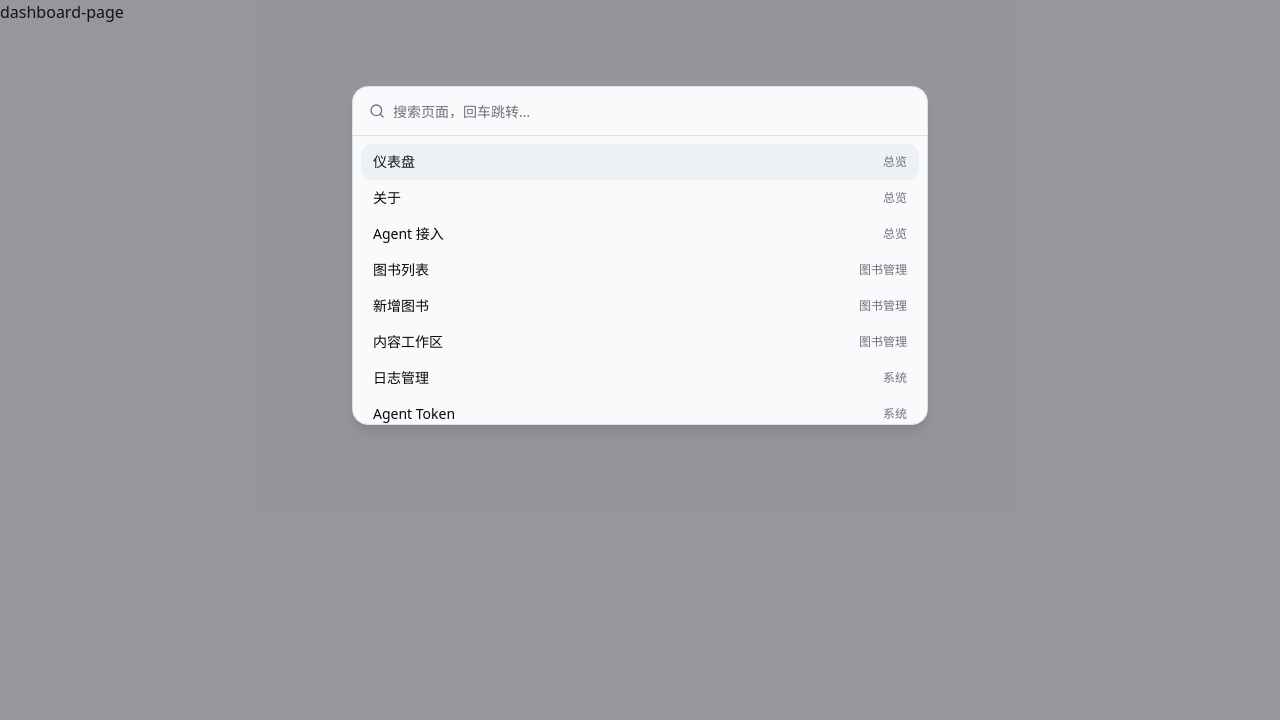
Test: CommandPalette › 过滤后回车跳转目标页面
Type "图书" into the dropdown labelled "搜索页面" at (652, 111), box [393,87,911,135]
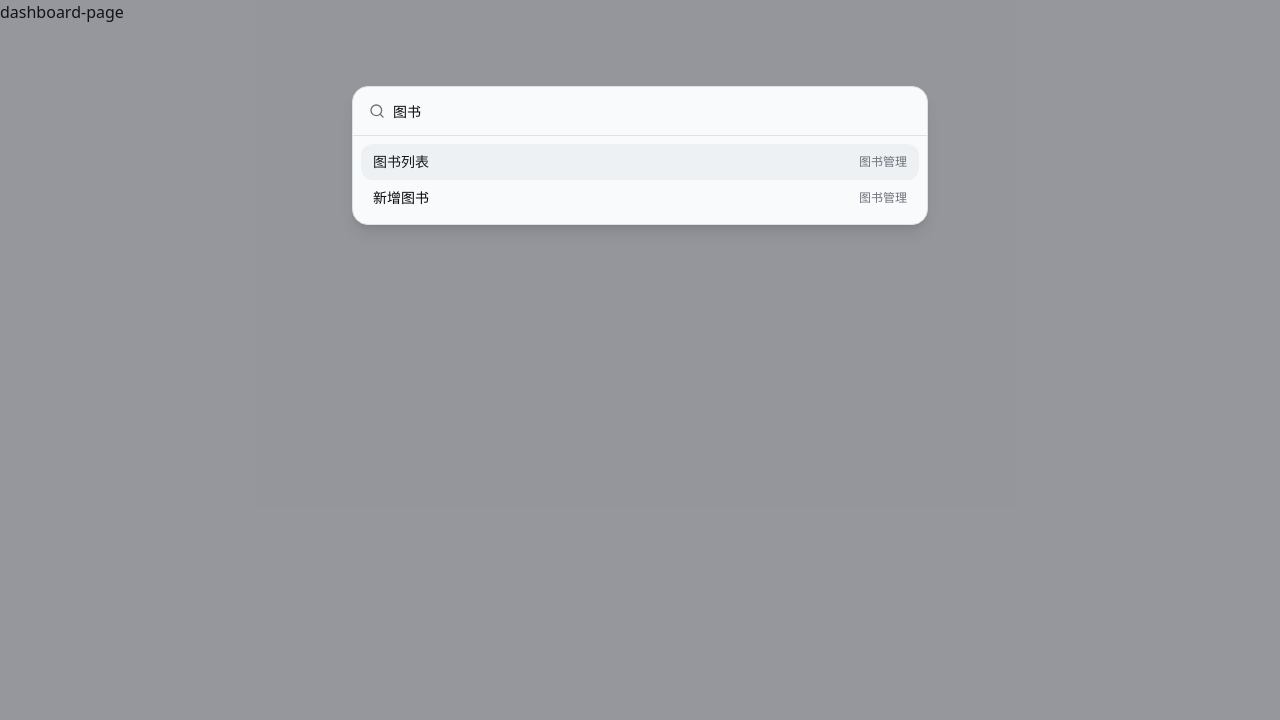
Press Enter in the dropdown named "搜索页面", box [393,87,911,135]
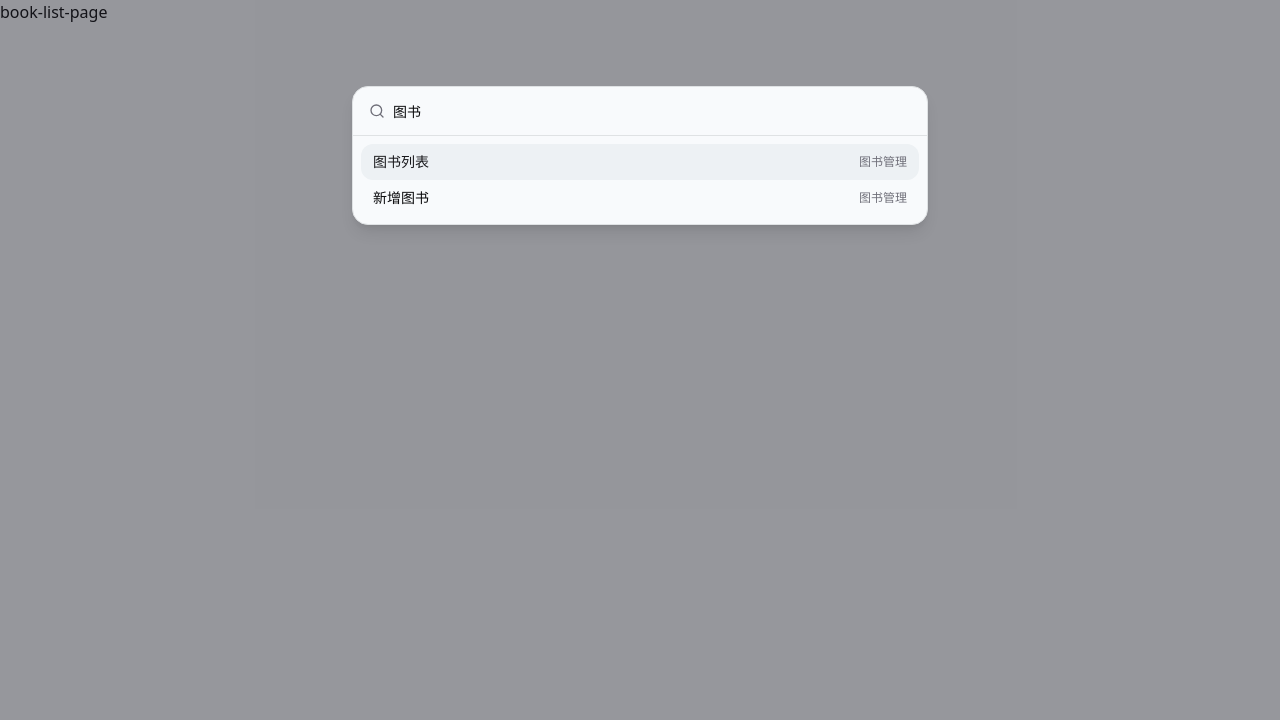
Expected: the text "book-list-page" is shown, [0,1,107,23]
